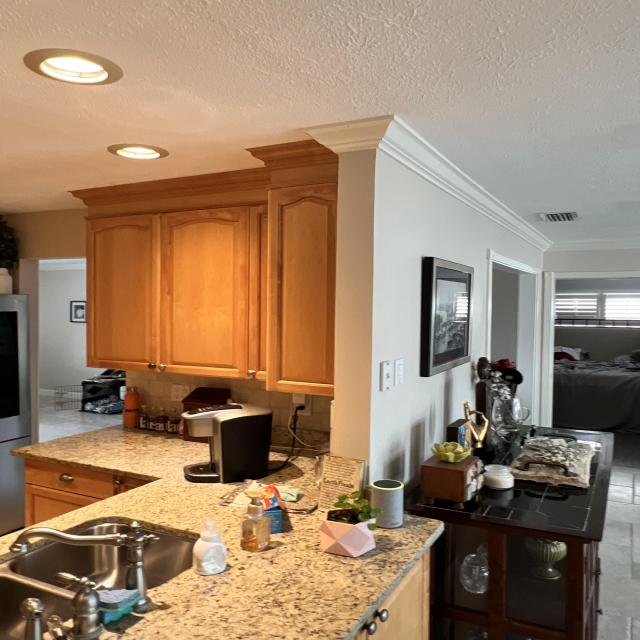Appliance_Fridge: (1, 294, 31, 537)
Appliance_Sink: (0, 520, 196, 640)
Cabinet_Flat: (25, 460, 115, 500)
Cabinet_Raised_Panel: (87, 183, 338, 398), (347, 553, 431, 640), (28, 487, 100, 526)
Countertop_Granite: (13, 426, 442, 640)
